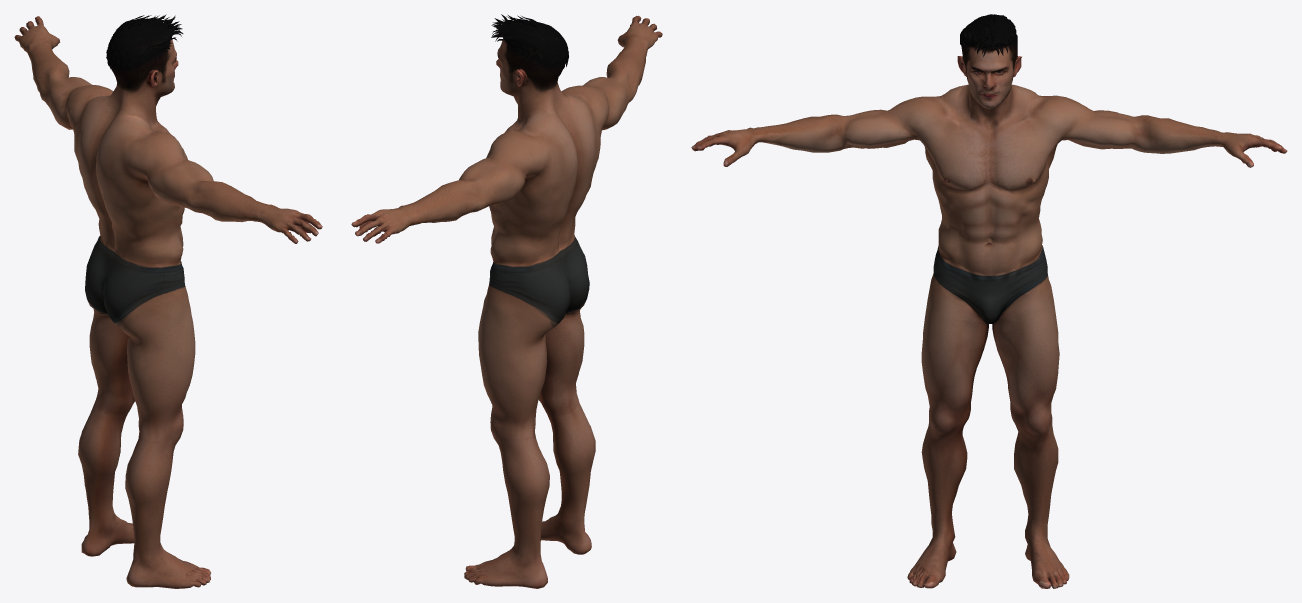
Rendered from player_male.glb.
3 renders of one model, left to right at view 1: azimuth 30°, elevation 25°; view 2: azimuth 150°, elevation 25°; view 3: azimuth 270°, elevation 25°, orthographic. The views are drawn at different scales.
Visible parts, largest first — view 1: PlayerMale; view 2: PlayerMale; view 3: PlayerMale.
Boxes of the visible parts, x1,y1,x2,y2 form: PlayerMale: [14, 14, 322, 588]; PlayerMale: [351, 14, 662, 588]; PlayerMale: [691, 14, 1287, 588].
Bounding box in the file's own units: 0.3384 × 1.82 × 1.77.
1 material, 1 textured.
